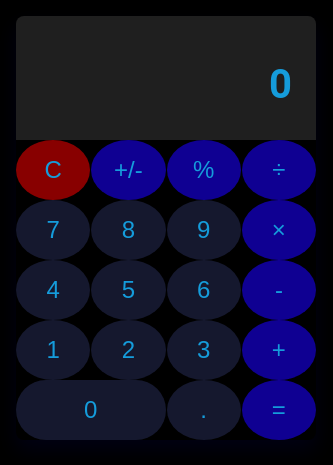
Test case: Calculator › should update display when clicking digit buttons
The width and height of the screenshot is (333, 465).
Click the button "5": x=128, y=290 [91,260,166,320]
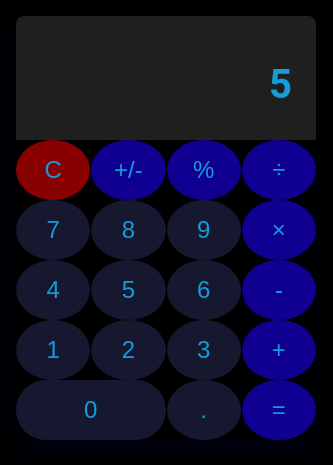
Expected: the text with test id "display" reads "5", [269,61,292,108]
